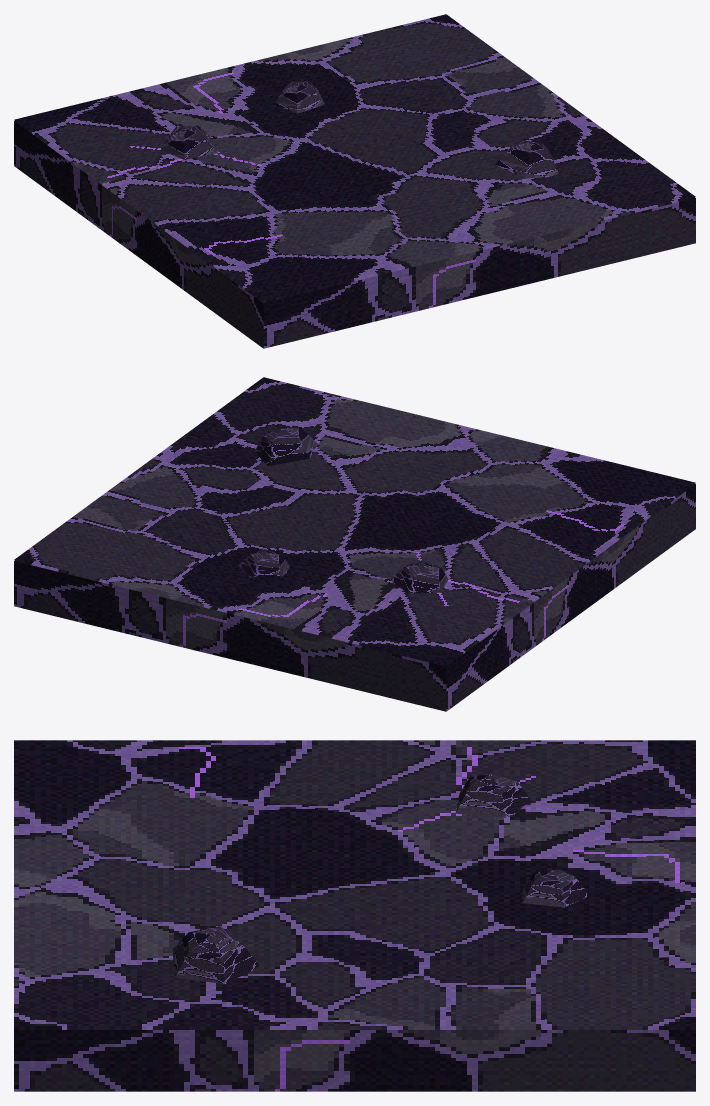
The model's file is terreno_caverna_obsidiana.glb.
The picture shows the model from 3 angles, top to bottom: view 1: azimuth 30°, elevation 25°; view 2: azimuth 150°, elevation 25°; view 3: azimuth 270°, elevation 25°; orthographic projection. The views are drawn at different scales.
Visible parts, largest first — view 1: terreno_caverna_obsidiana; view 2: terreno_caverna_obsidiana; view 3: terreno_caverna_obsidiana.
Boxes of the visible parts, x1,y1,x2,y2 form: terreno_caverna_obsidiana: (14,14,695,348); terreno_caverna_obsidiana: (14,377,695,711); terreno_caverna_obsidiana: (14,740,695,1091).
Size of the model in its own units: 2 by 0.3132 by 2.
Materials: 1 (1 with a texture image).
